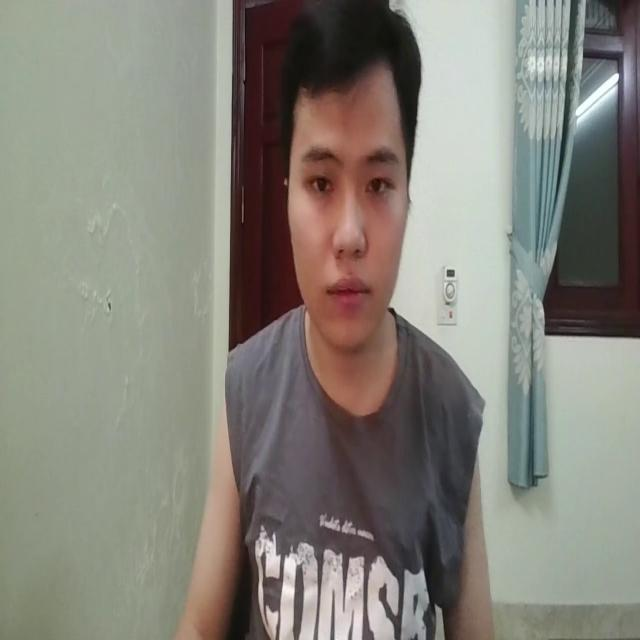student: (180, 2, 496, 640)
